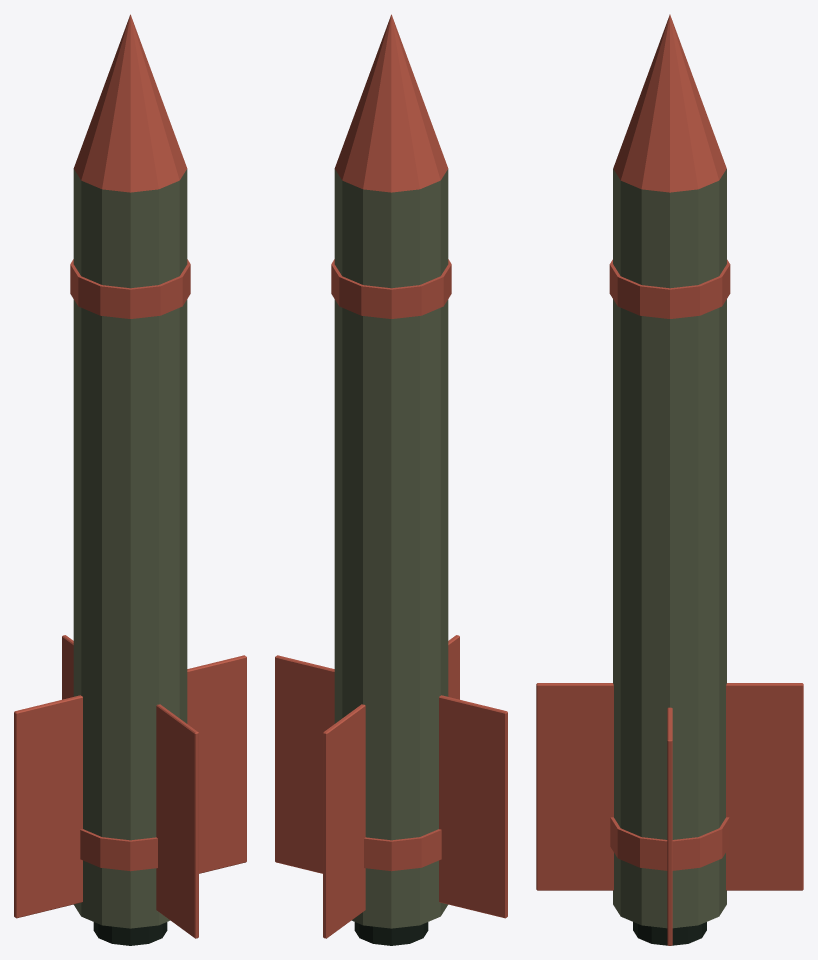
Rendered from projectile_enemy_sabot.obj.
3 views of the same model, side by side, from view 1: azimuth 30°, elevation 25°; view 2: azimuth 150°, elevation 25°; view 3: azimuth 270°, elevation 25° (orthographic).
Visible parts, largest first — view 1: projectile_enemy_sabot; view 2: projectile_enemy_sabot; view 3: projectile_enemy_sabot.
Part boxes in pixels (x1=…): projectile_enemy_sabot: x1=14, y1=14, x2=246, y2=945; projectile_enemy_sabot: x1=275, y1=14, x2=507, y2=945; projectile_enemy_sabot: x1=536, y1=14, x2=803, y2=945.
Size of the model in its own units: 0.329 by 1.25 by 0.329.
1 material, 1 textured.
